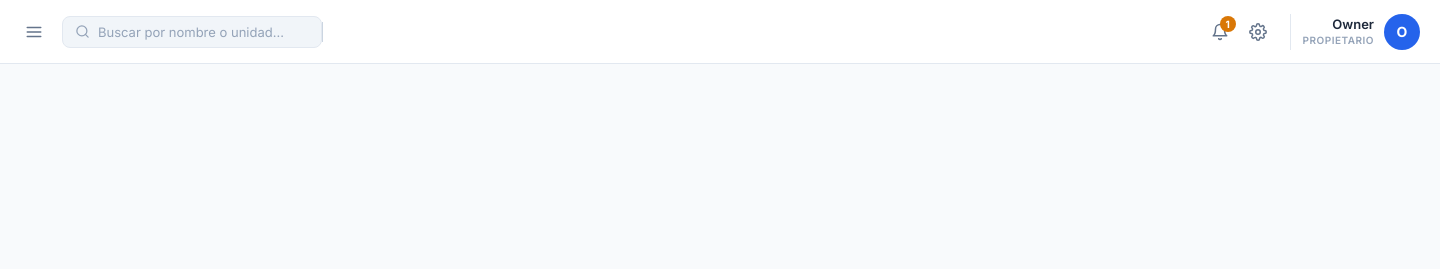
Test: Navbar › no abre panel ni consulta notificaciones para propietario
The image size is (1440, 269).
Step 1. Click the button named "Notificaciones" → point(1220, 32), box x1=1202 y1=14 x2=1238 y2=50
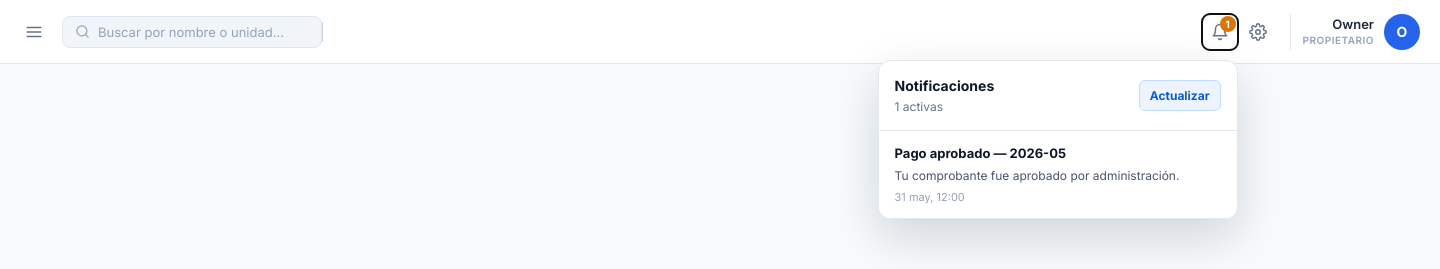
Expected: the text "Pago aprobado — 2026-05" is shown, x1=895 y1=144 x2=1066 y2=160
